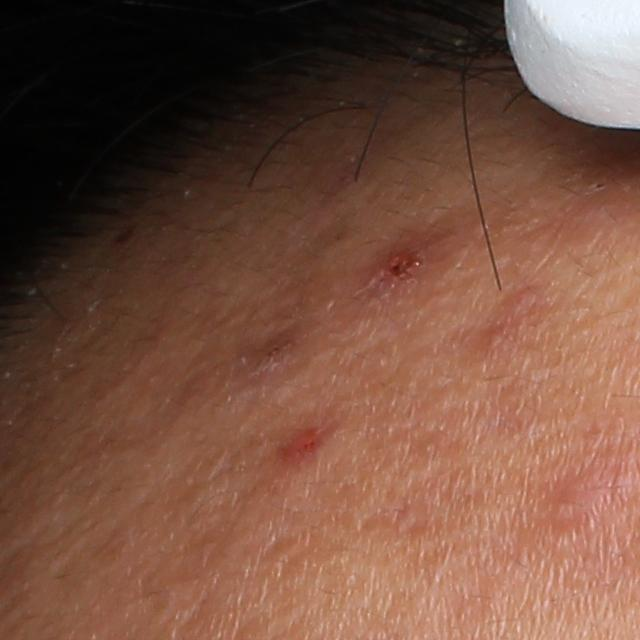papule: (542, 465, 628, 545), (374, 244, 426, 290), (276, 423, 325, 464)
